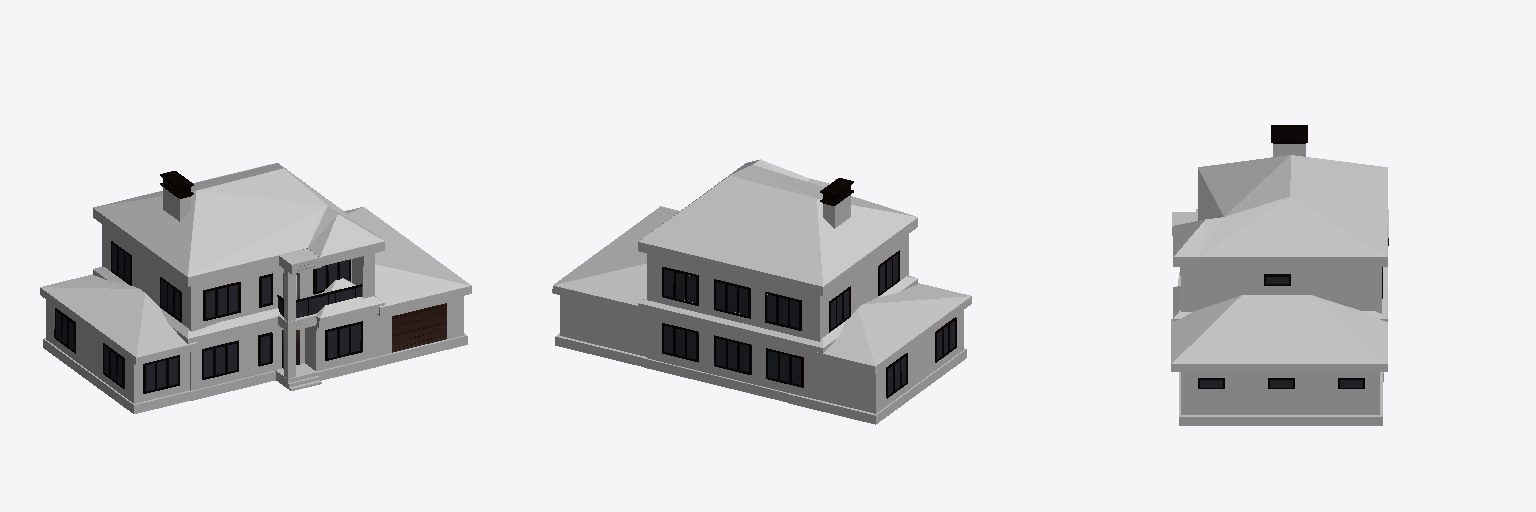
3 views of the same model, side by side, from view 1: azimuth 30°, elevation 25°; view 2: azimuth 150°, elevation 25°; view 3: azimuth 270°, elevation 25° (orthographic).
Parts seen in each view (by area): view 1: Roof, Hall, L-2, L-1, Garage, Roof1; view 2: Roof, Hall, L-2, Garage, L-1, Roof1; view 3: Garage, Roof, L-2, Roof1.
Boxes of the visible parts, <box> form: Roof: <box>93,163,384,286</box>; Hall: <box>40,274,218,413</box>; L-2: <box>102,225,374,331</box>; L-1: <box>190,314,377,400</box>; Garage: <box>344,207,471,366</box>; Roof1: <box>93,267,384,345</box>; Roof: <box>638,159,917,295</box>; Hall: <box>789,283,971,424</box>; L-2: <box>647,179,908,341</box>; Garage: <box>552,206,679,366</box>; L-1: <box>644,315,819,402</box>; Roof1: <box>638,276,917,355</box>; Garage: <box>1171,295,1387,425</box>; Roof: <box>1173,125,1387,266</box>; L-2: <box>1172,212,1382,313</box>; Roof1: <box>1173,267,1387,321</box>.
Size of the model in its own units: 4.3 by 2.32 by 2.5.
29 materials, 4 textured.